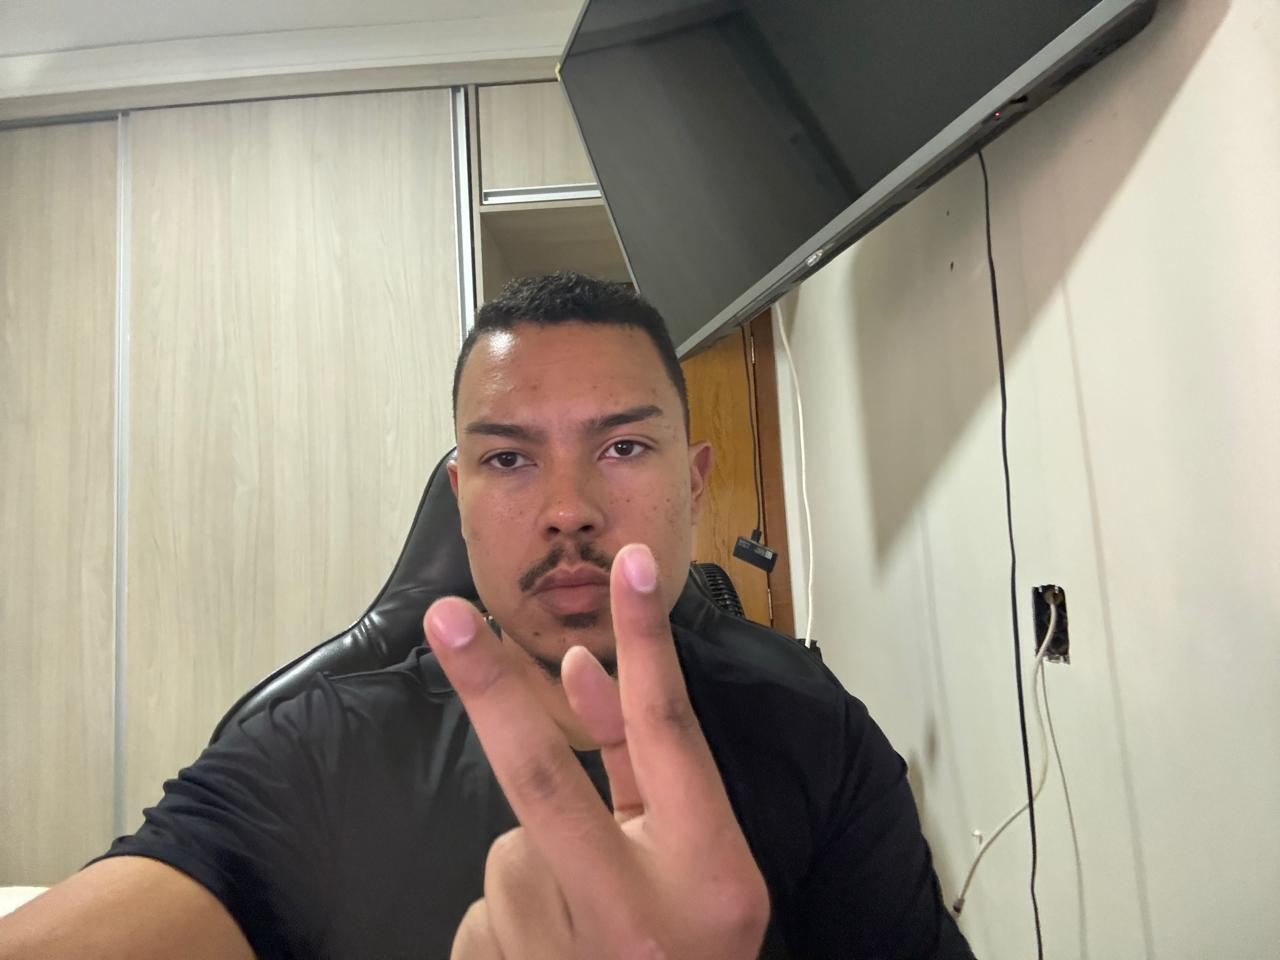h: (401, 530, 777, 960)
